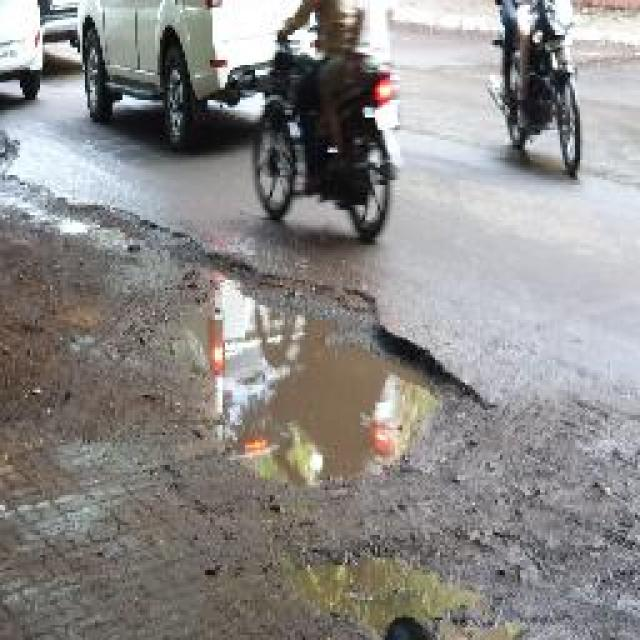stagnation: (186, 272, 460, 507)
